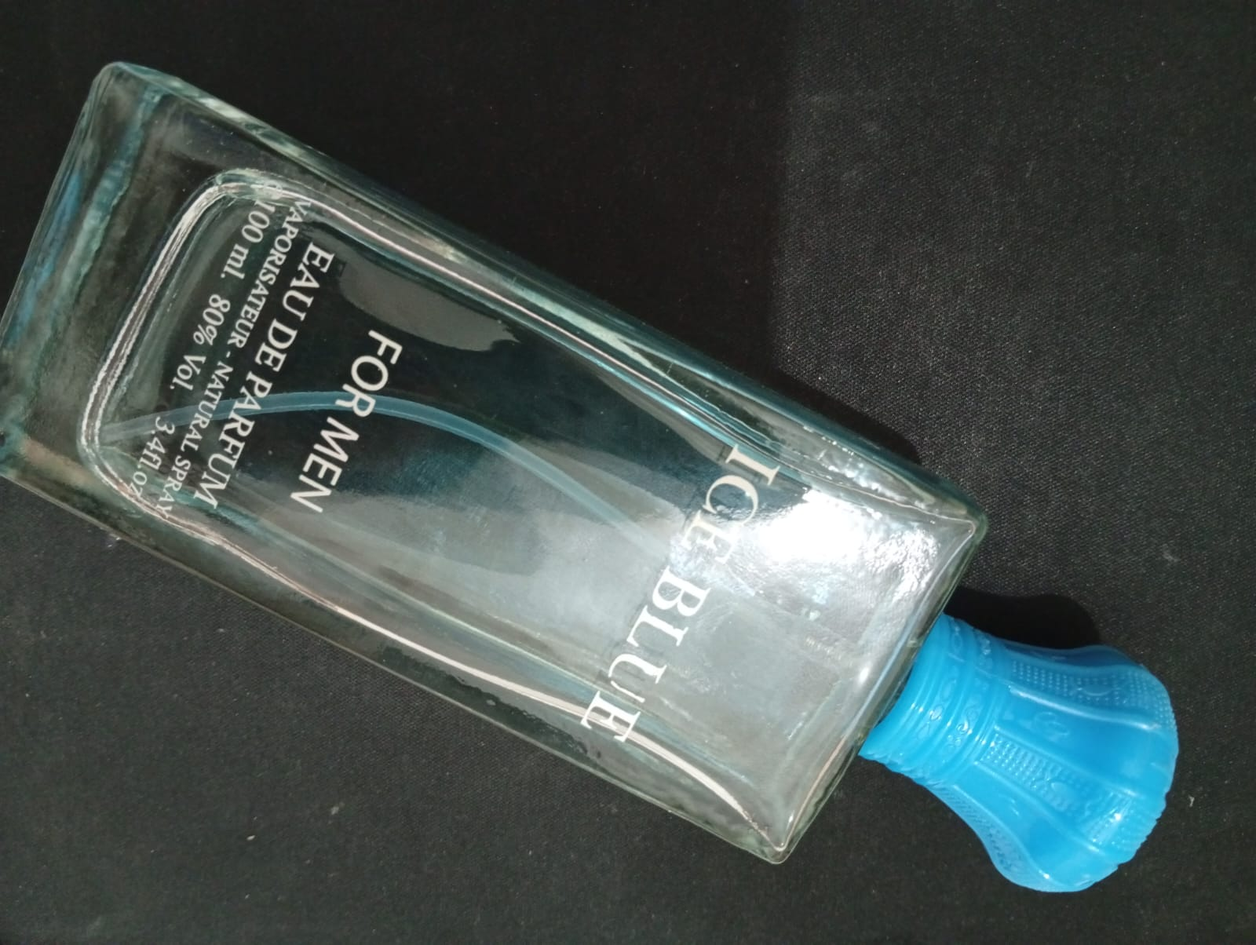Parfum: (0, 53, 1202, 918)
